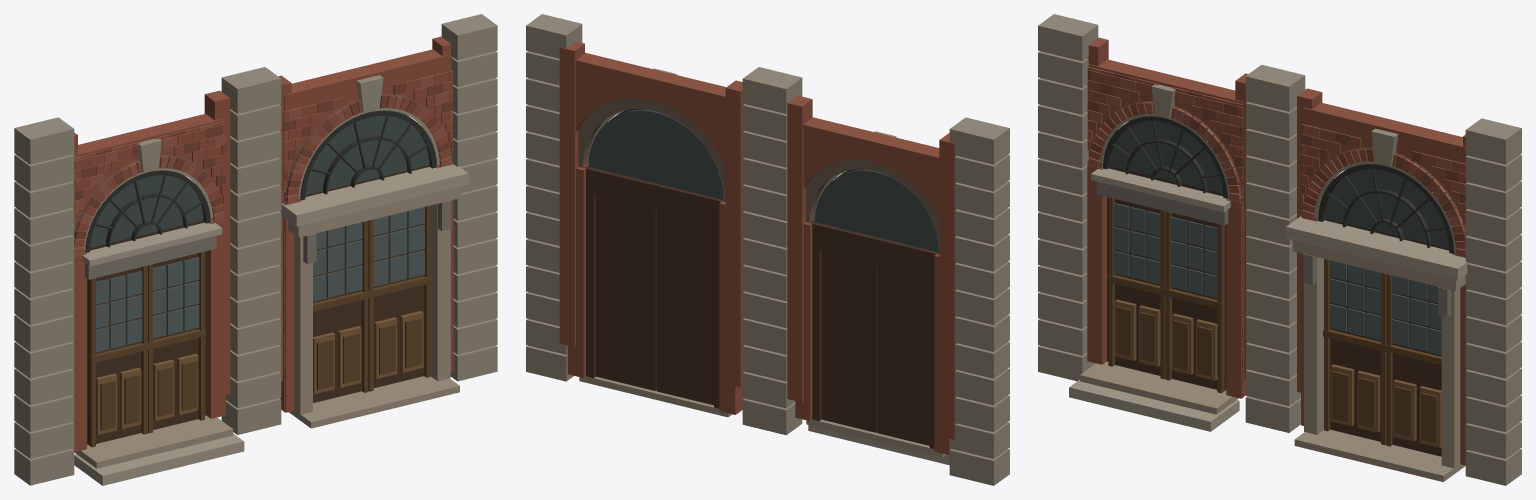
The model's file is yangpu-yangshupu-2086-two-fanlight-entrances-lod.glb.
3 renders of one model, left to right at view 1: azimuth 30°, elevation 25°; view 2: azimuth 150°, elevation 25°; view 3: azimuth 330°, elevation 25°, orthographic.
Parts seen in each view (by area): view 1: 日商上海纺织株式会社旧址街面双券门与扇形亮窗; view 2: 日商上海纺织株式会社旧址街面双券门与扇形亮窗; view 3: 日商上海纺织株式会社旧址街面双券门与扇形亮窗.
Boxes of the visible parts, bbox=[...] form: 日商上海纺织株式会社旧址街面双券门与扇形亮窗: bbox=[14, 14, 497, 485]; 日商上海纺织株式会社旧址街面双券门与扇形亮窗: bbox=[526, 14, 1009, 485]; 日商上海纺织株式会社旧址街面双券门与扇形亮窗: bbox=[1038, 14, 1521, 485].
Size of the model in its own units: 7.08 by 5.01 by 0.975.
